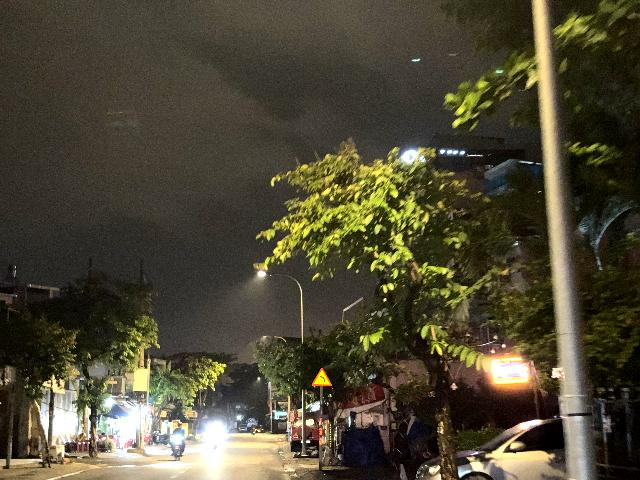cho-ngoat-nguy-hiem-ben-trai: (312, 367, 332, 387)
